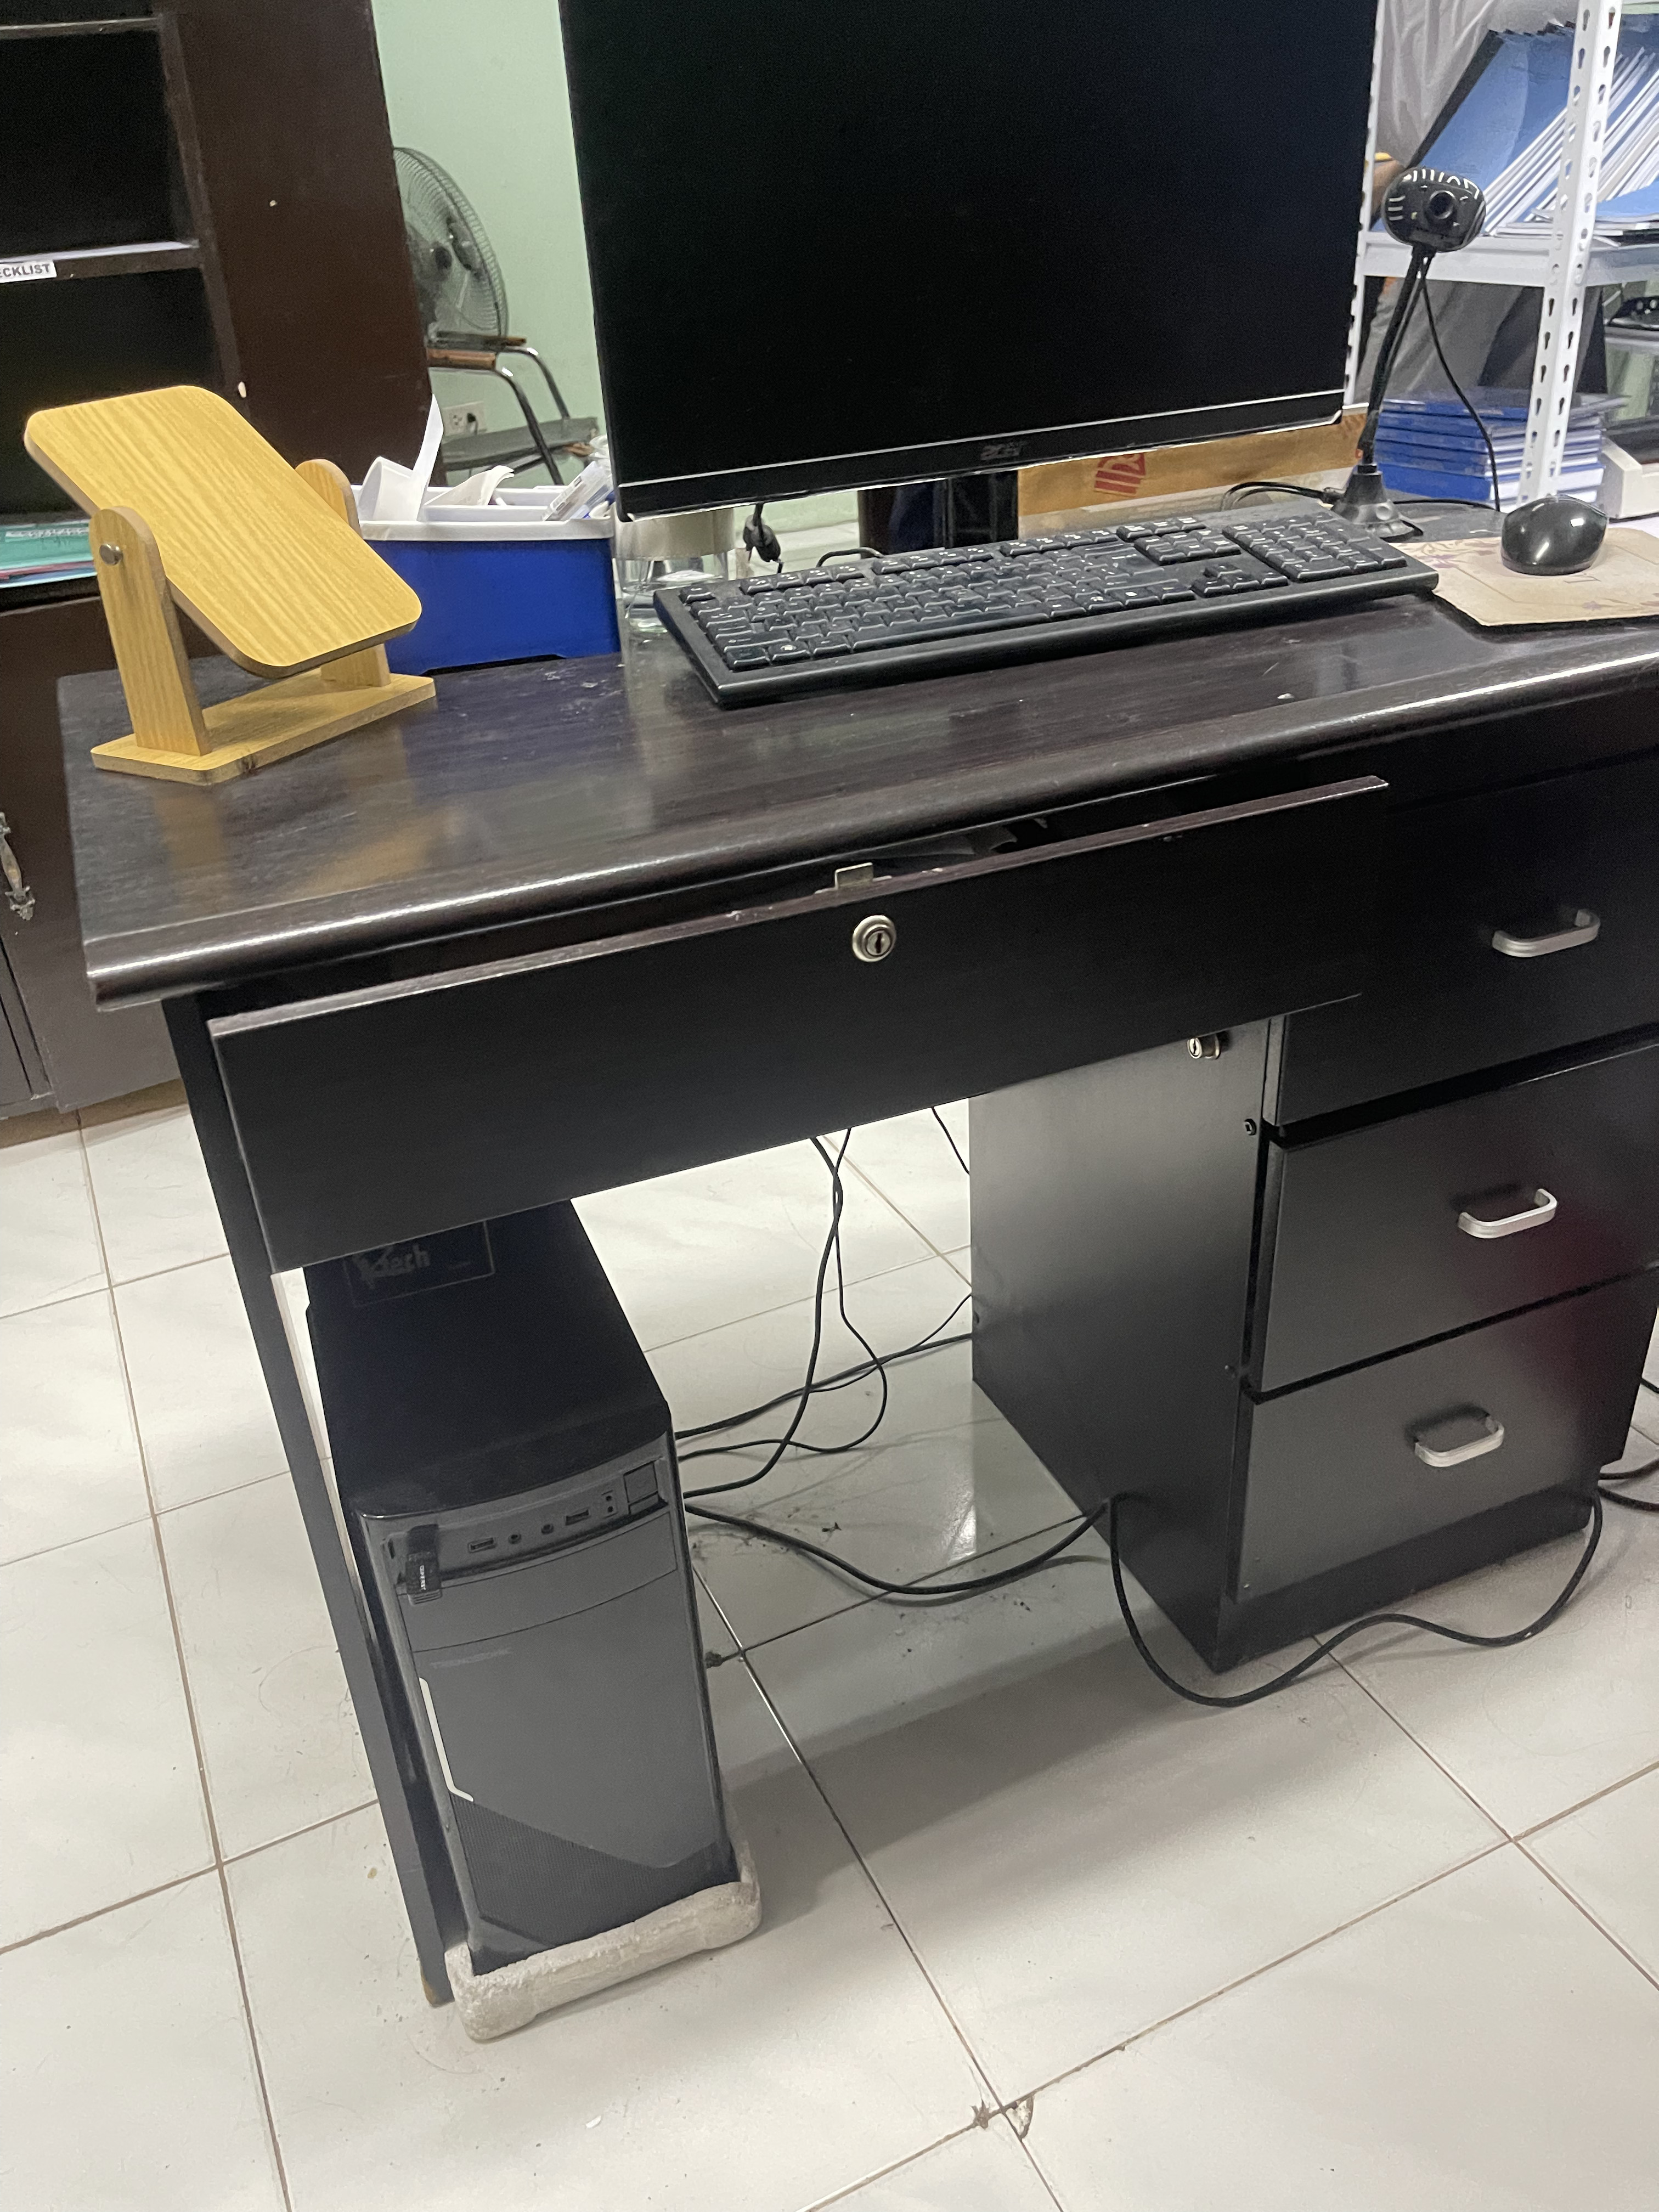table1: (24, 613, 1659, 2057)
